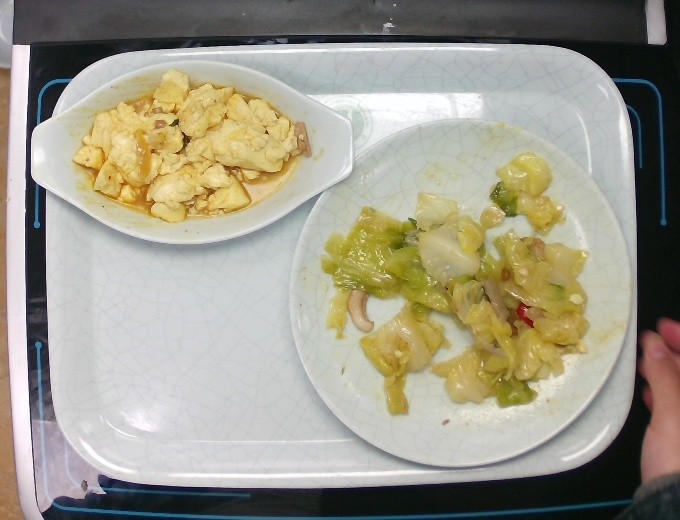JYsf-Da_Yuan_Pan: (286, 115, 634, 471)
JYsf-Yu_Pan: (29, 57, 356, 247)
